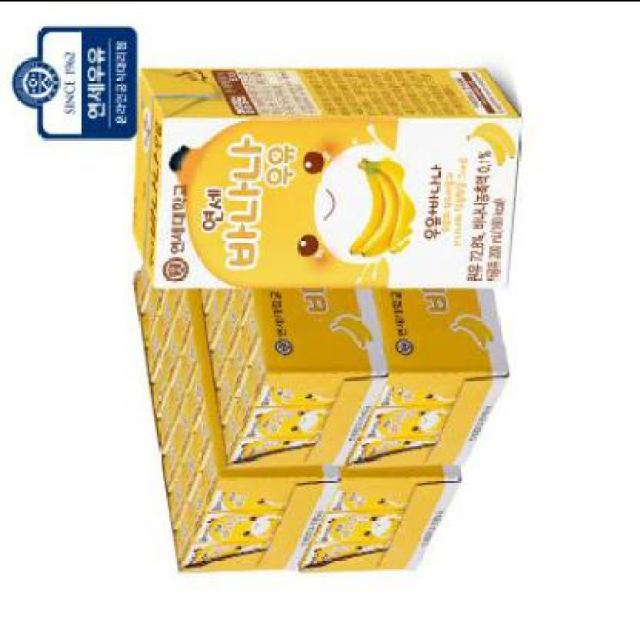tetra: (132, 61, 540, 299)
